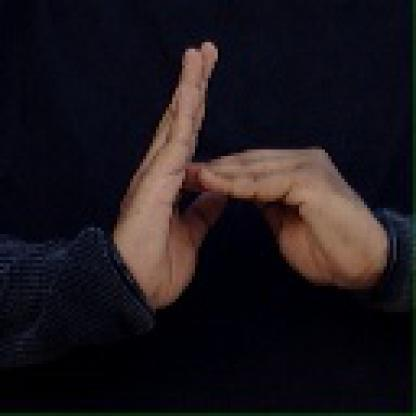Z: (122, 32, 364, 294)
